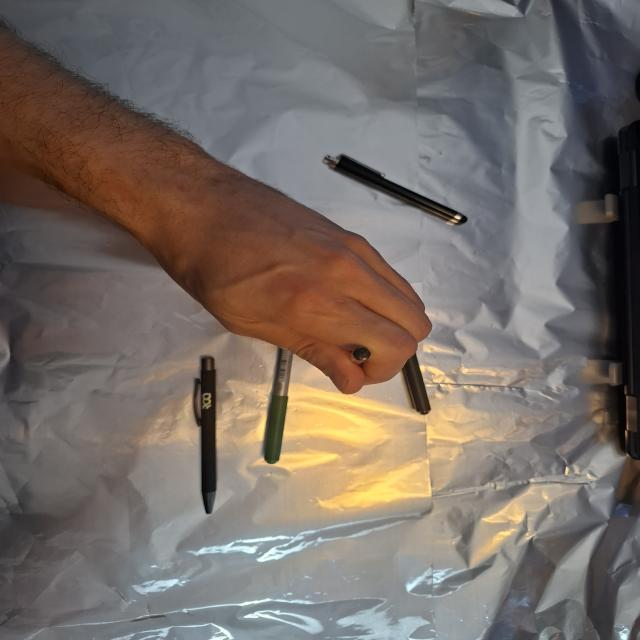glove_off: (146, 171, 436, 397)
